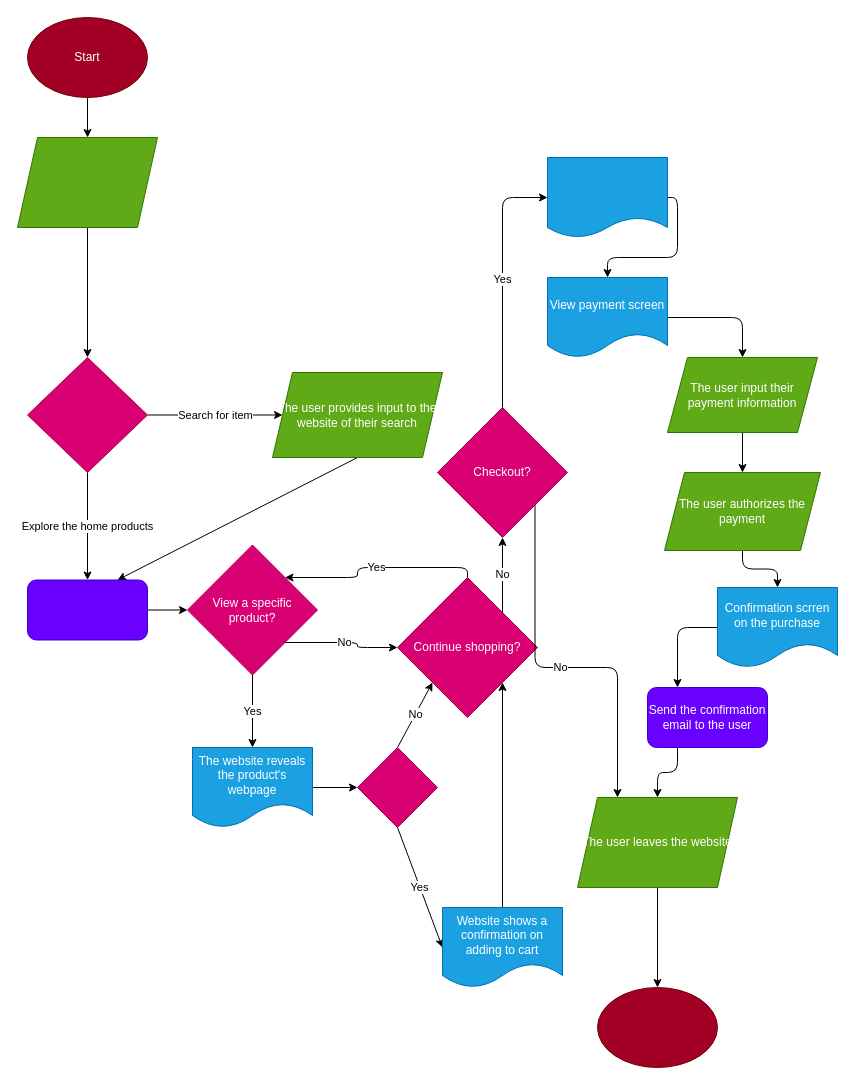
Some shapes in this 855 by 1085 pixel diagram are drawn without their labels. The centre of each missing label's shape, as x and y in pixels:
Add to cart?: point 397,787
End: point 657,1027
The user enters the website: point 87,182
The website displays the products: point 87,609
View cart screen: point 607,197
What to do in the website: point 87,414
